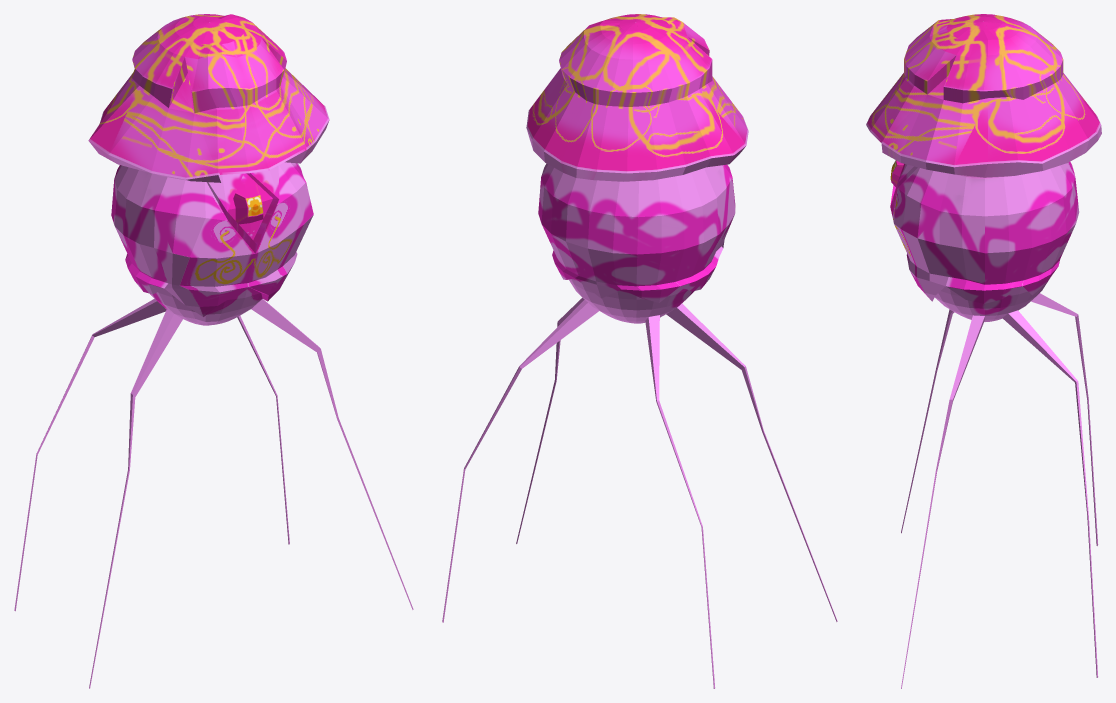
The model's file is Mushroom texturing.fbx.
3 renders of one model, left to right at view 1: azimuth 30°, elevation 25°; view 2: azimuth 150°, elevation 25°; view 3: azimuth 270°, elevation 25°, orthographic.
Parts seen in each view (by area): view 1: cyclops; view 2: cyclops; view 3: cyclops.
Boxes of the visible parts, <box> form: cyclops: <box>14,14,413,688</box>; cyclops: <box>442,14,837,688</box>; cyclops: <box>866,14,1101,688</box>.
Bounding box in the file's own units: 109 × 192 × 69.65.
